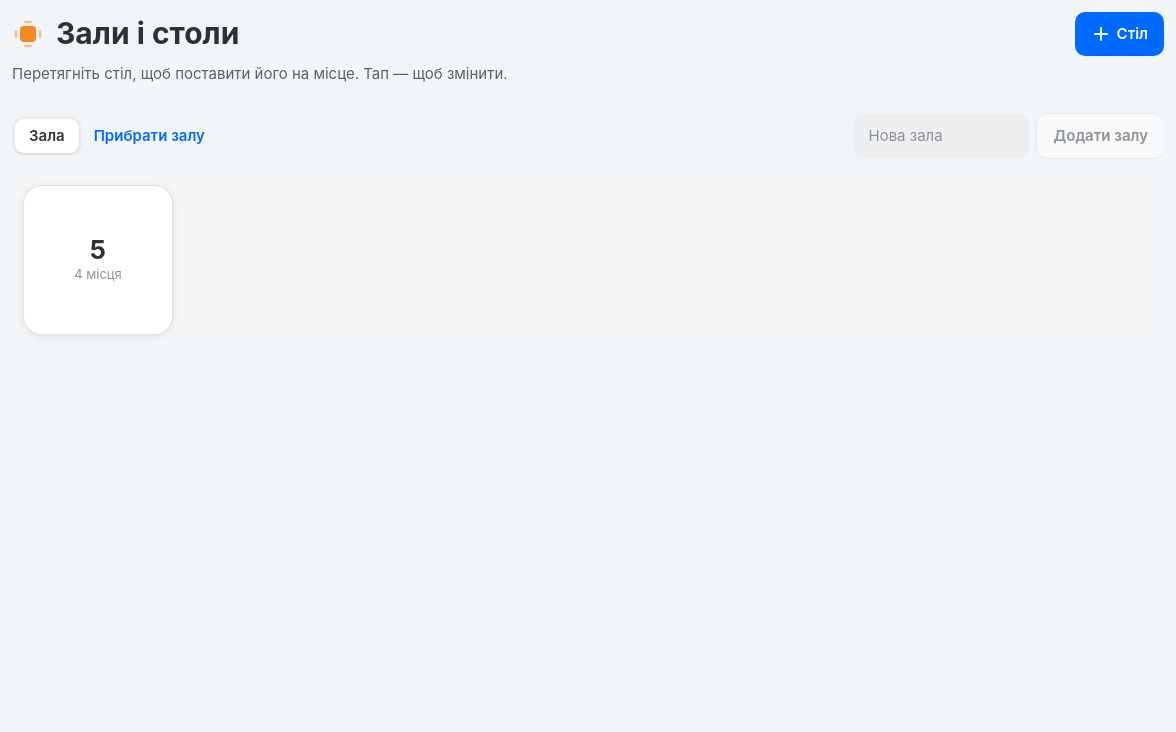
it: HallEditorPage › the QR of a table (guest menu, Q2) › says where to switch the menu on when it is off, and links nothing
Click the button with test id "editor-table-11": (98, 260) 24,186 -> 172,334
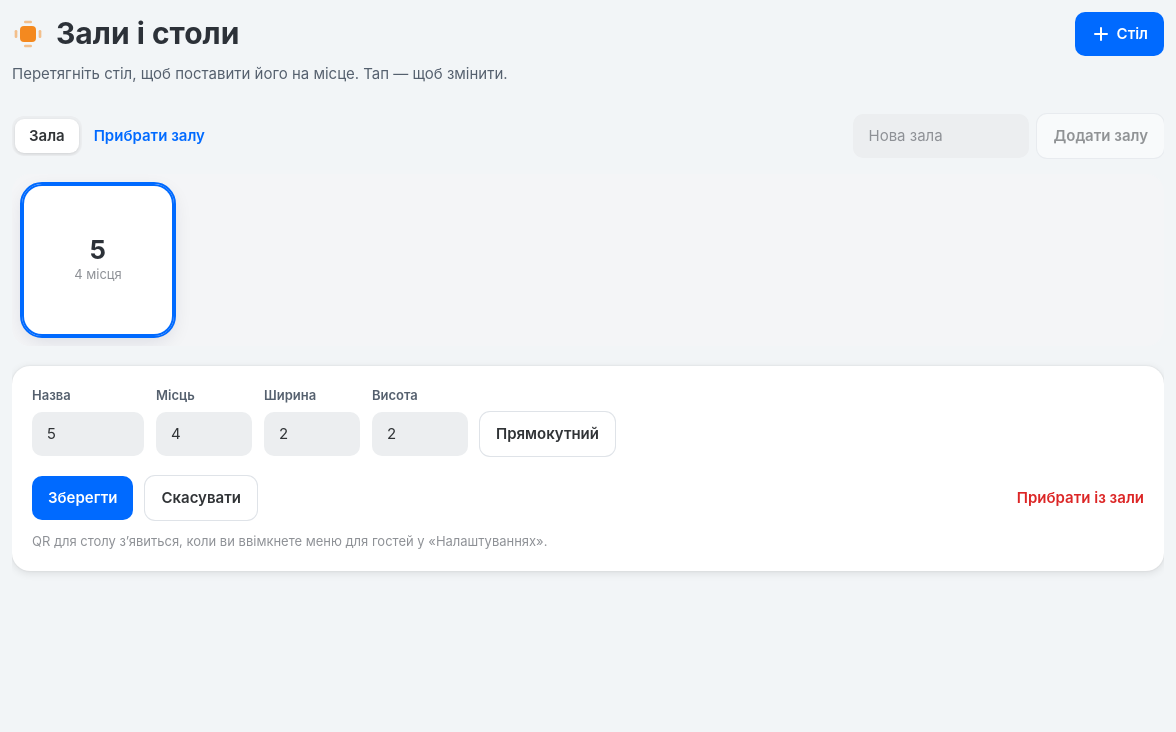
Expected: the text with test id "editor-form-qr-hint" shows "«Налаштуваннях»", 32,533 -> 547,549
